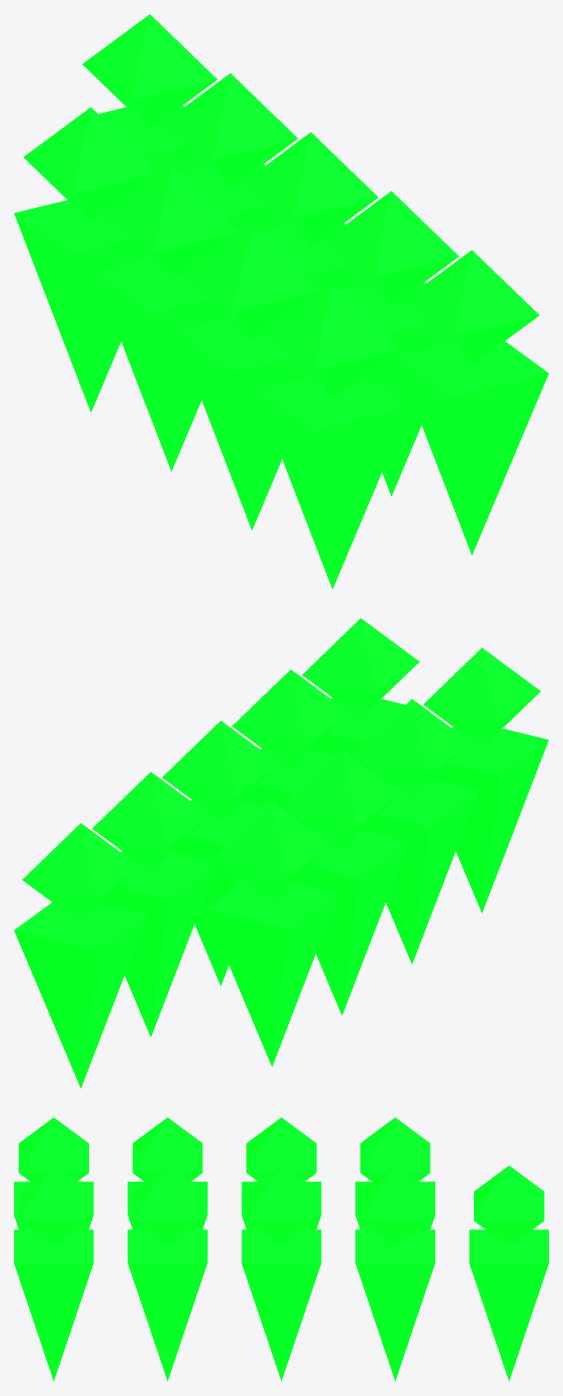
Rendered from person_g09.glb.
3 renders of one model, top to bottom at view 1: azimuth 30°, elevation 25°; view 2: azimuth 150°, elevation 25°; view 3: azimuth 270°, elevation 25°, orthographic. The views are drawn at different scales.
Parts seen in each view (by area): view 1: person.012, person.011, person.018, person.014, person.016, person.013, person.019, person.015, person.017; view 2: person.018, person.019, person.017, person.012, person.016, person.014, person.015, person.013, person.011; view 3: person.015, person.013, person.017, person.011, person.019, person.016, person.014, person.018, person.012.
Part boxes in pixels (left/top/right/bottom): person.012: left=255, top=284, right=409, bottom=589; person.011: left=395, top=250, right=548, bottom=554; person.018: left=14, top=107, right=158, bottom=412; person.014: left=175, top=225, right=319, bottom=530; person.016: left=94, top=166, right=238, bottom=471; person.013: left=324, top=191, right=458, bottom=496; person.019: left=82, top=14, right=217, bottom=199; person.015: left=243, top=132, right=378, bottom=317; person.017: left=163, top=73, right=297, bottom=258; person.018: left=205, top=801, right=338, bottom=1066; person.019: left=14, top=823, right=147, bottom=1088; person.017: left=92, top=772, right=217, bottom=1037; person.012: left=423, top=648, right=548, bottom=912; person.016: left=283, top=750, right=408, bottom=1015; person.014: left=353, top=699, right=478, bottom=964; person.015: left=162, top=721, right=279, bottom=985; person.013: left=232, top=669, right=349, bottom=830; person.011: left=302, top=618, right=419, bottom=779; person.015: left=241, top=1165, right=321, bottom=1381; person.013: left=127, top=1165, right=207, bottom=1380; person.017: left=355, top=1165, right=435, bottom=1380; person.011: left=14, top=1165, right=93, bottom=1381; person.019: left=469, top=1165, right=548, bottom=1381; person.016: left=241, top=1117, right=321, bottom=1229; person.014: left=127, top=1117, right=207, bottom=1229; person.018: left=355, top=1117, right=435, bottom=1229; person.012: left=14, top=1117, right=93, bottom=1229.
Bounding box in the file's own units: 1.7 × 2.1 × 4.7.
